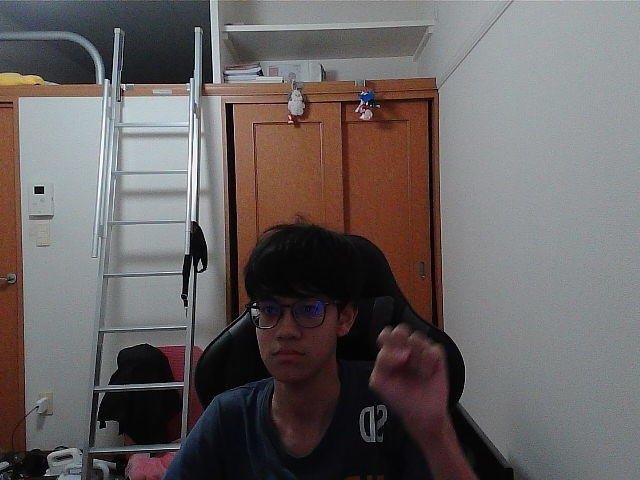closed_palm: (378, 329, 438, 416)
